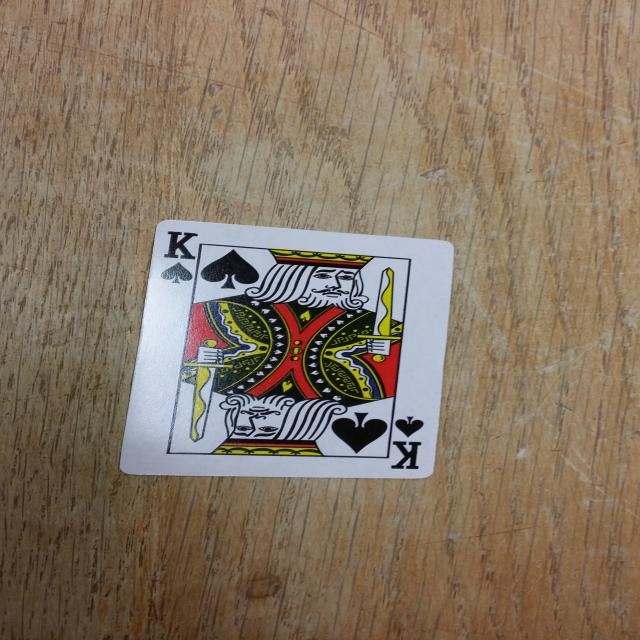Ks: (153, 227, 209, 288), (384, 413, 430, 475)
